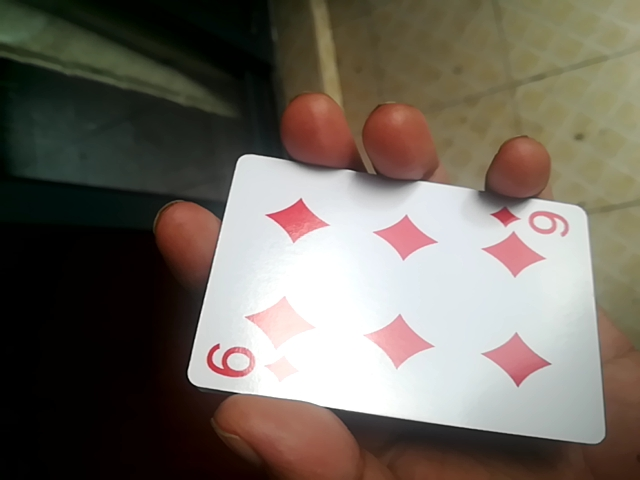fk 6: (199, 159, 611, 455)
